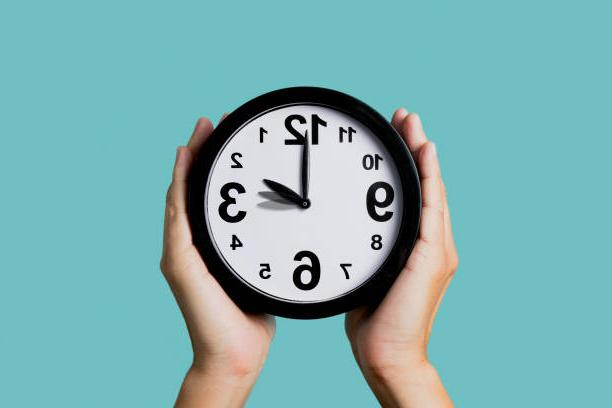clock: (188, 79, 418, 321)
